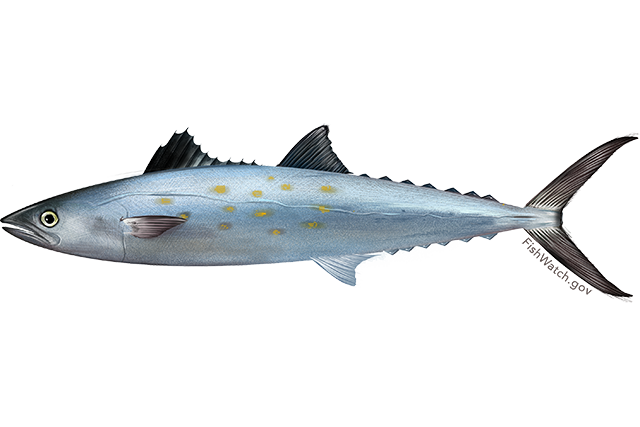Mackerel: (0, 124, 639, 300)
